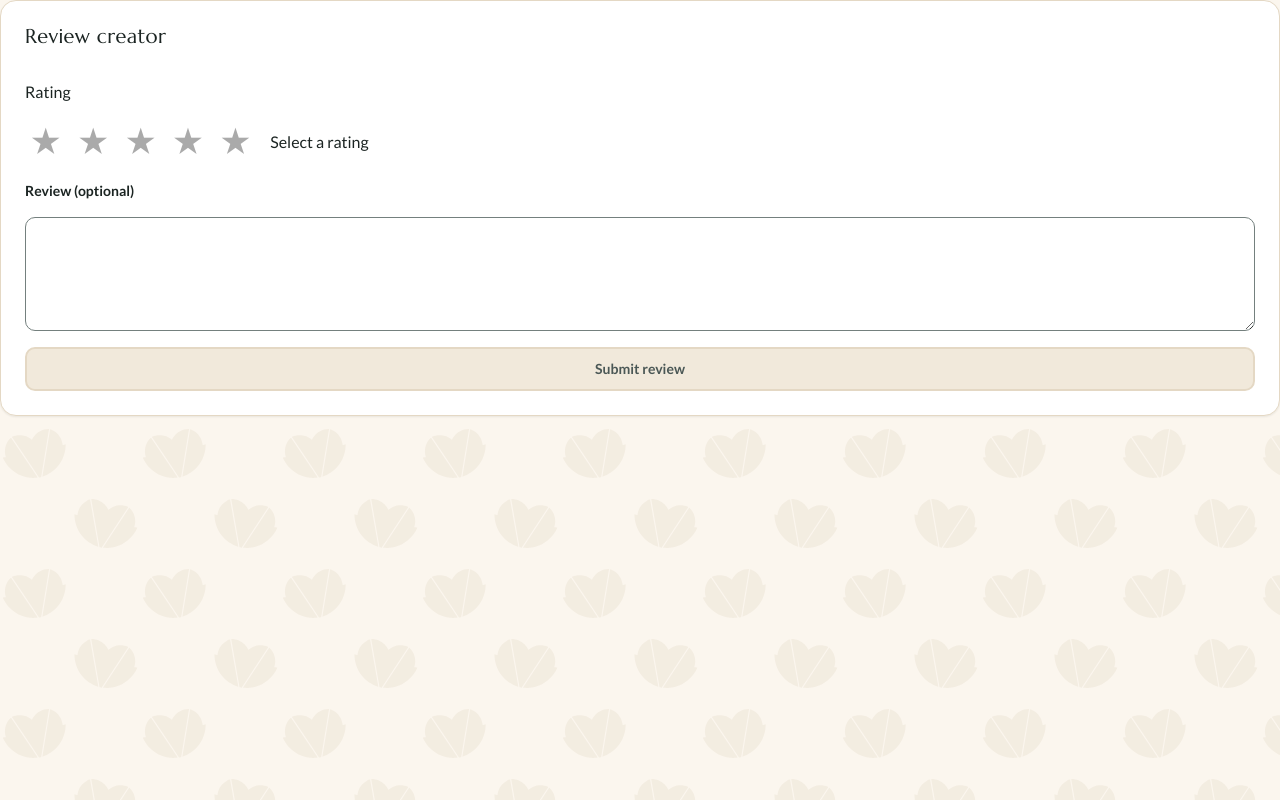
Scenario: keeps the form after a validation error
Click the button named "Rate 4 stars": [188, 142] box [167,120,209,164]
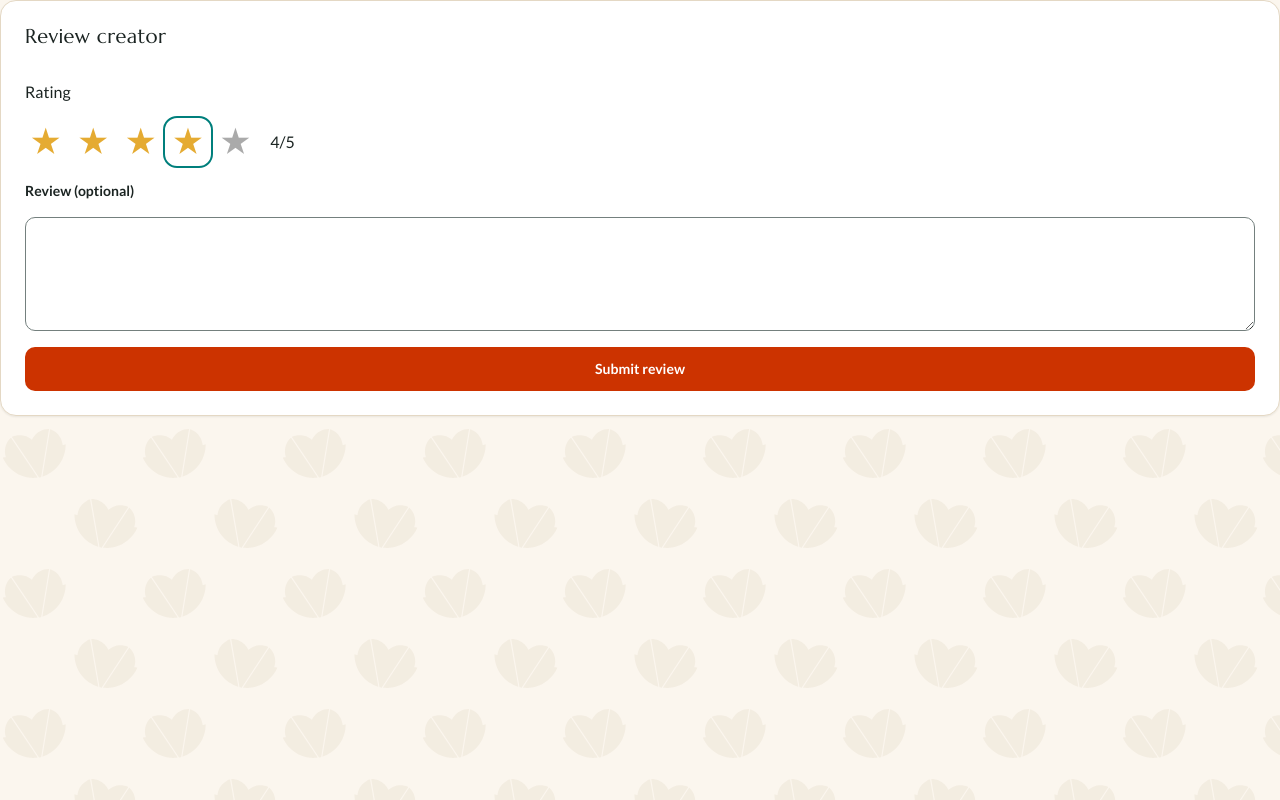
Click the button "Submit review": [640, 369] box [25,347,1255,391]
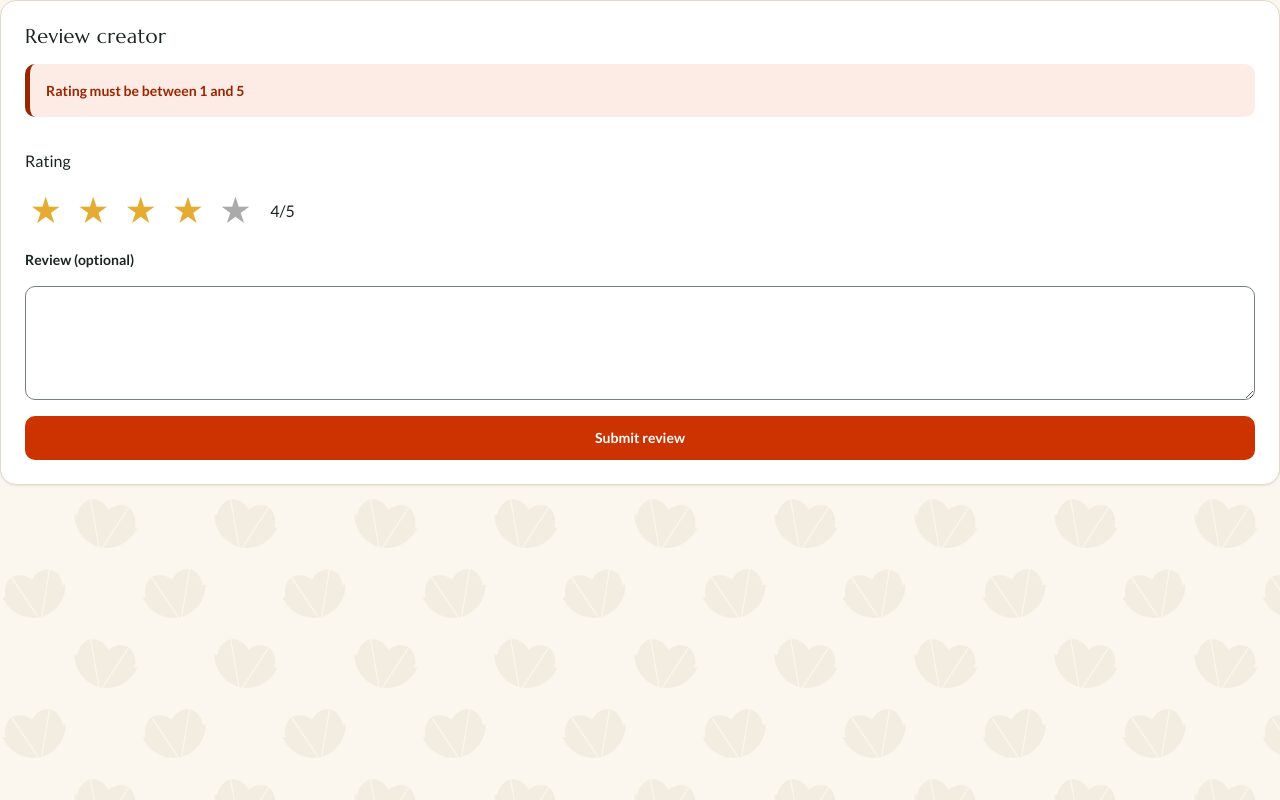
Expected: the button "Submit review" is shown, [25,416,1255,460]
Expected: the message reads "Rating must be between 1 and 5", [46,82,244,99]
